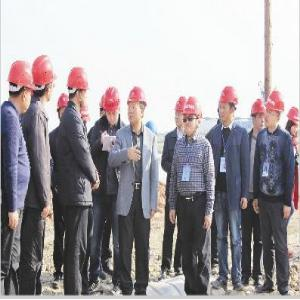red: (7, 58, 35, 116), (31, 53, 56, 108), (66, 66, 90, 111), (126, 85, 148, 130), (182, 96, 204, 141), (102, 83, 123, 127), (218, 84, 239, 128), (264, 91, 284, 133), (250, 98, 268, 134), (285, 105, 300, 142), (174, 96, 189, 131), (57, 92, 70, 121)
